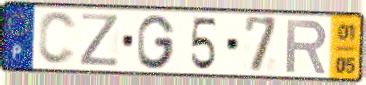5: (189, 15, 219, 71)
7: (243, 14, 280, 75)
C: (35, 10, 79, 68)
G: (136, 13, 178, 71)
R: (284, 17, 330, 75)
Z: (77, 12, 122, 69)
